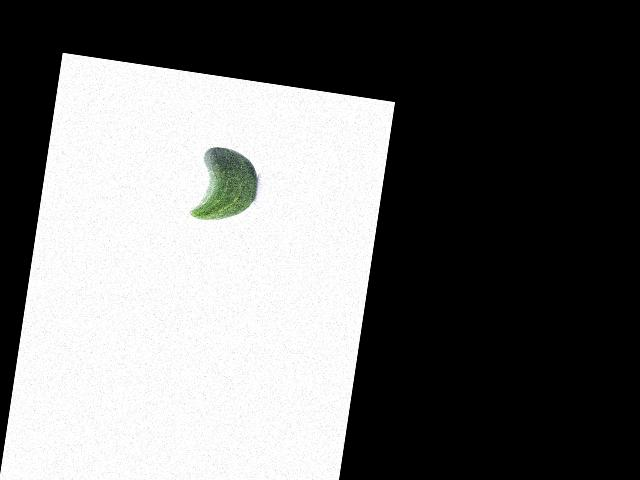cucumber: (189, 144, 261, 227)
